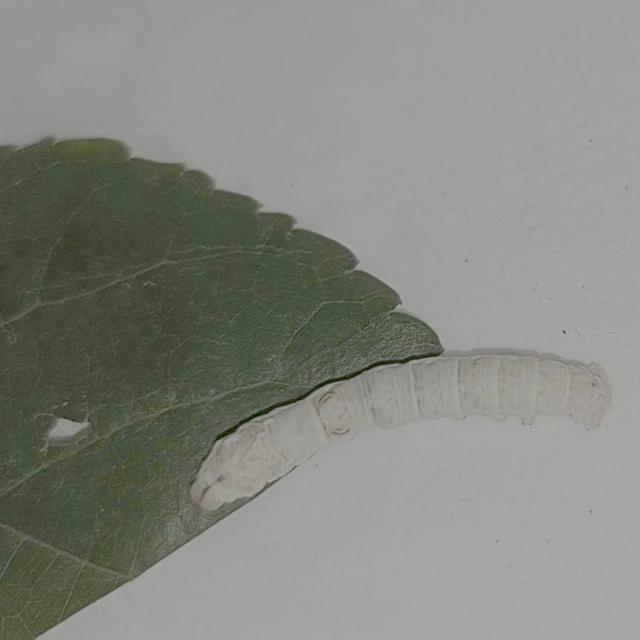Healthy: (184, 333, 622, 516)
